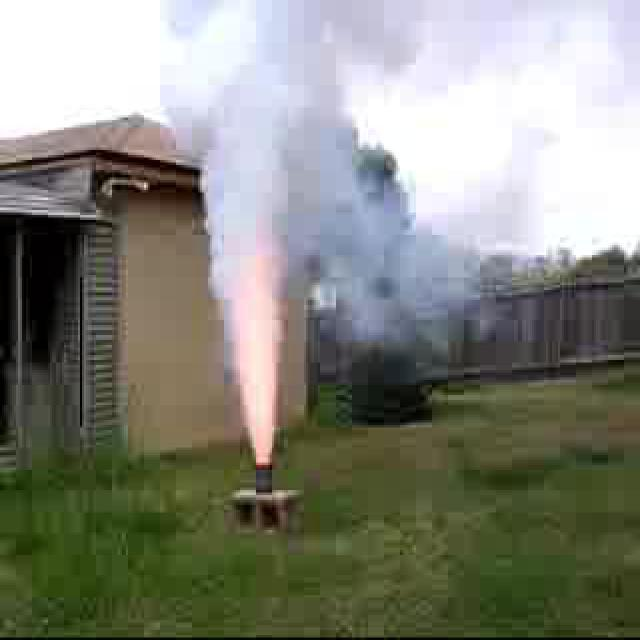Smoke: (180, 19, 314, 450)
